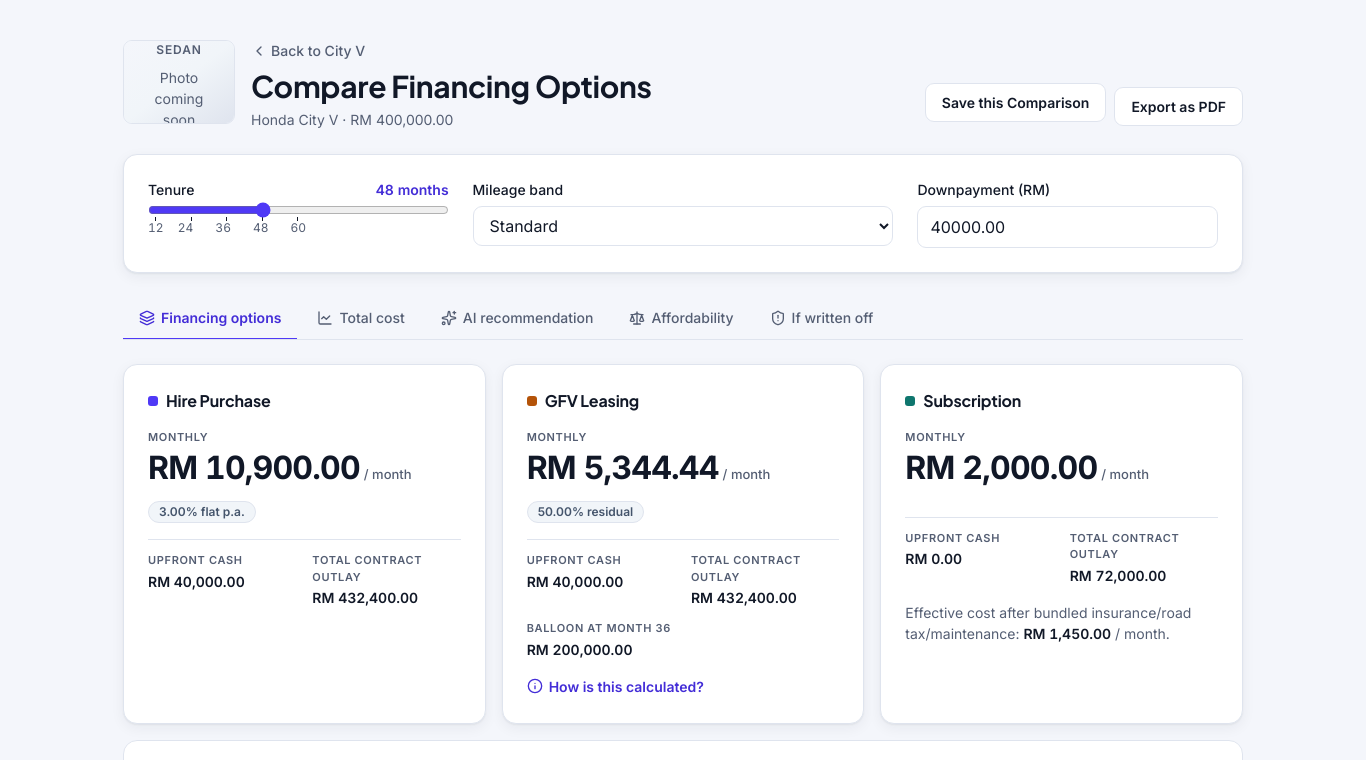
Test: ComparisonPage › TCO Breakdown & Depreciation tab › does not fetch the TCO report until the tab is actually selected
The image size is (1366, 760).
Expected: the text "RM 10,900.00" is shown, [148,448,360,486]
Click the tab "Total cost" at x=361, y=318, box [301,297,421,340]
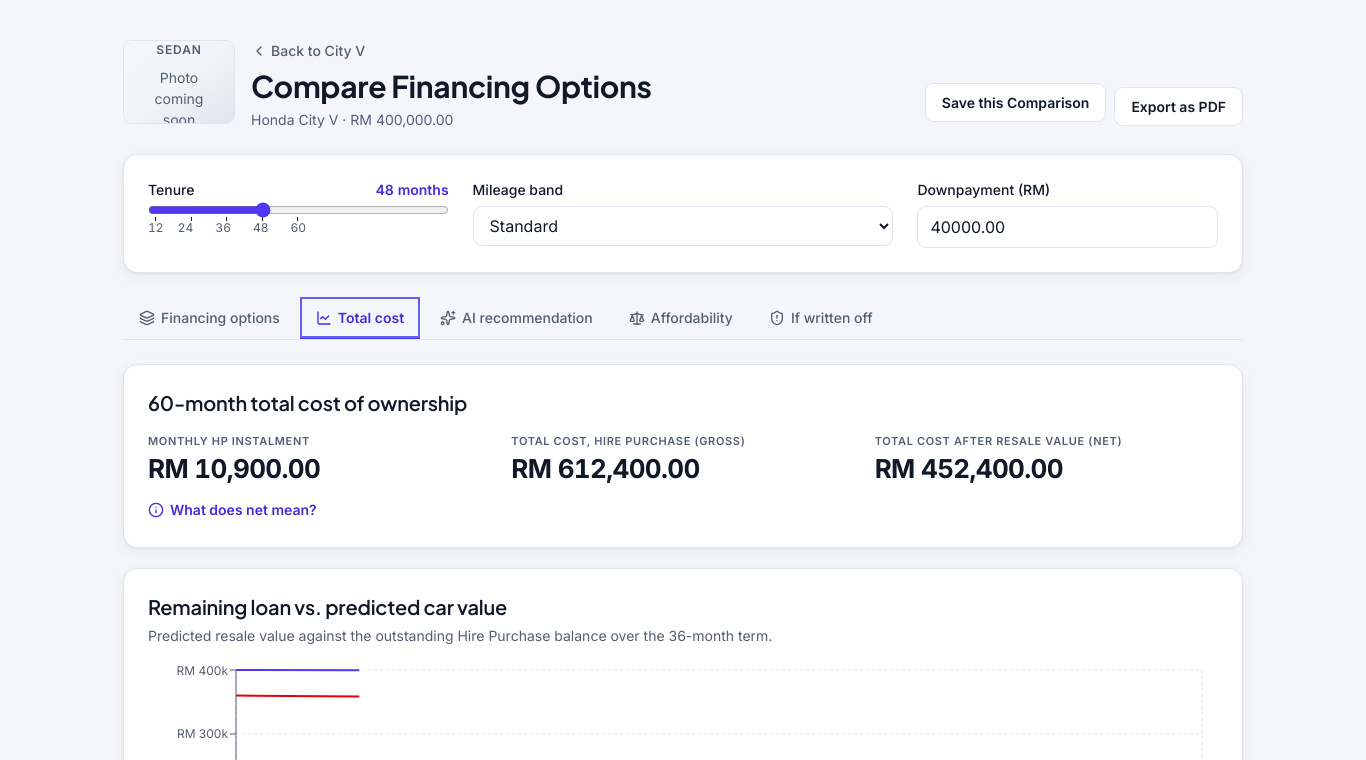
Expected: the heading "Remaining loan vs. predicted car value" is shown, [148,594,507,619]
